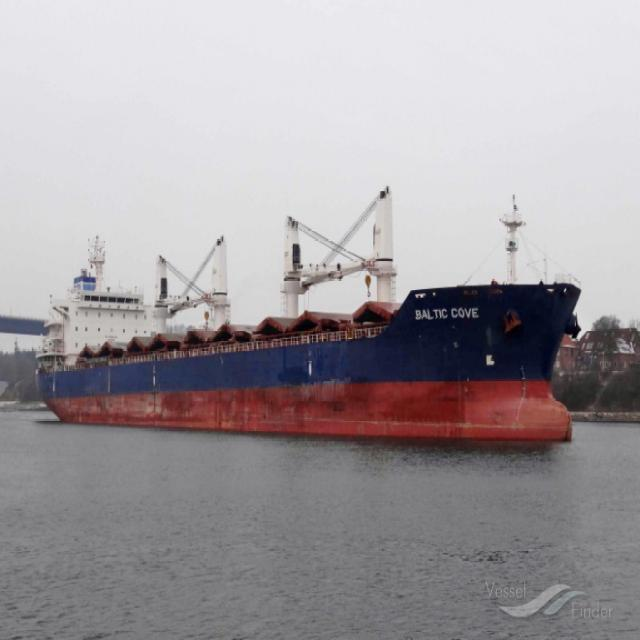OCR: (412, 298, 487, 328)
